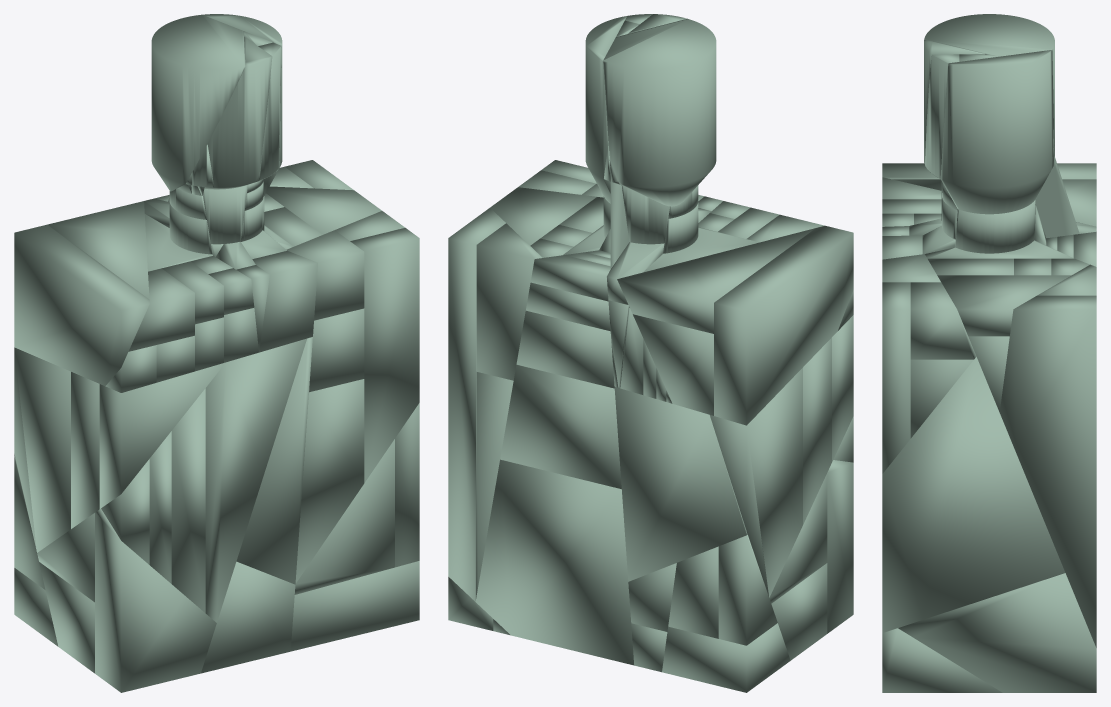
File: collision-hulls.glb
3 renders of one model, left to right at view 1: azimuth 30°, elevation 25°; view 2: azimuth 150°, elevation 25°; view 3: azimuth 270°, elevation 25°, orthographic.
Parts seen in each view (by area): view 1: fragment-000-hull-02, fragment-016-hull-00, fragment-017-hull-00, fragment-008-hull-00, fragment-001-hull-00, fragment-006-hull-02, fragment-008-hull-05, fragment-005-hull-00, fragment-006-hull-00, fragment-013-hull-00, fragment-007-hull-01, fragment-015-hull-00 (+36 smaller); view 2: fragment-002-hull-07, fragment-001-hull-00, fragment-000-hull-02, fragment-004-hull-00, fragment-006-hull-02, fragment-010-hull-00, fragment-002-hull-06, fragment-000-hull-00, fragment-010-hull-01, fragment-014-hull-02, fragment-002-hull-05, fragment-000-hull-01 (+29 smaller); view 3: fragment-007-hull-00, fragment-010-hull-00, fragment-011-hull-00, fragment-012-hull-00, fragment-008-hull-00, fragment-011-hull-01, fragment-013-hull-00, fragment-001-hull-00, fragment-008-hull-01, fragment-011-hull-07, fragment-008-hull-02, fragment-018-hull-01 (+19 smaller).
Part boxes in pixels (box(x1,y1,x2,y2)): fragment-000-hull-02: box(14, 224, 149, 385); fragment-016-hull-00: box(205, 338, 307, 622); fragment-017-hull-00: box(95, 508, 216, 692); fragment-008-hull-00: box(350, 227, 419, 482); fragment-001-hull-00: box(151, 14, 245, 191); fragment-006-hull-02: box(14, 347, 70, 552); fragment-008-hull-05: box(295, 379, 364, 583); fragment-005-hull-00: box(236, 337, 312, 584); fragment-006-hull-00: box(99, 362, 225, 508); fragment-013-hull-00: box(290, 561, 419, 651); fragment-007-hull-01: box(294, 439, 394, 594); fragment-015-hull-00: box(201, 561, 295, 673); fragment-002-hull-07: box(475, 459, 634, 665); fragment-001-hull-00: box(603, 18, 716, 206); fragment-000-hull-02: box(714, 225, 853, 425); fragment-004-hull-00: box(614, 387, 747, 581); fragment-006-hull-02: box(710, 368, 802, 597); fragment-010-hull-00: box(448, 208, 505, 601); fragment-002-hull-06: box(500, 364, 621, 488); fragment-000-hull-00: box(617, 228, 815, 333); fragment-010-hull-01: box(476, 223, 542, 380); fragment-014-hull-02: box(662, 623, 790, 692); fragment-002-hull-05: box(516, 310, 614, 388); fragment-000-hull-01: box(633, 314, 713, 415); fragment-007-hull-00: box(882, 357, 1065, 632); fragment-010-hull-00: box(999, 295, 1096, 647); fragment-011-hull-00: box(940, 50, 1053, 214); fragment-012-hull-00: box(898, 573, 1096, 692); fragment-008-hull-00: box(882, 282, 910, 473); fragment-011-hull-01: box(937, 275, 1071, 336); fragment-013-hull-00: box(882, 628, 1002, 692); fragment-001-hull-00: box(924, 14, 1054, 150); fragment-008-hull-01: box(910, 282, 976, 359); fragment-011-hull-07: box(955, 199, 1035, 253); fragment-008-hull-02: box(910, 359, 973, 438); fragment-018-hull-01: box(925, 54, 959, 178).
Bounding box in the file's own units: 0.0542 × 0.1 × 0.0336.
